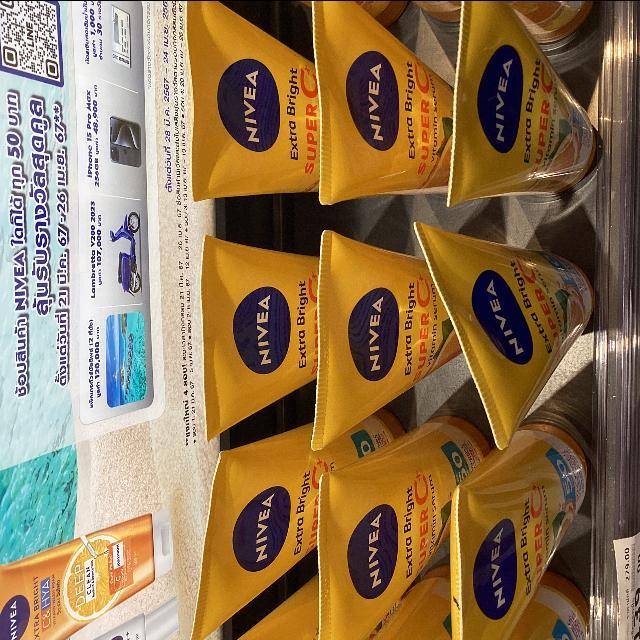Squeeze Tube: (170, 0, 601, 640)
